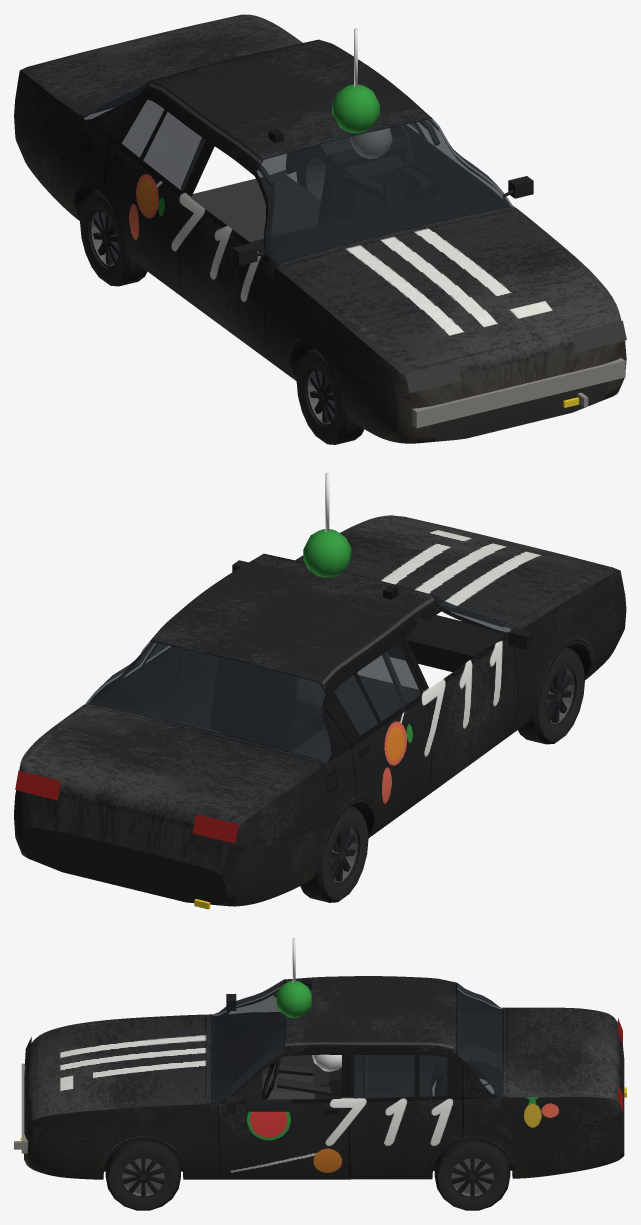
The picture shows the model from 3 angles, top to bottom: view 1: azimuth 30°, elevation 25°; view 2: azimuth 150°, elevation 25°; view 3: azimuth 270°, elevation 25°; orthographic projection. The views are drawn at different scales.
Parts seen in each view (by area): view 1: body, wheel_rr, wheel_fr, wheel_rl; view 2: body, wheel_rr, wheel_fr; view 3: body, wheel_fl, wheel_rl, wheel_rr.
Part boxes in pixels (x1,y1,x2,y2): body: [14, 14, 626, 443]; wheel_rr: [80, 189, 147, 286]; wheel_fr: [296, 348, 364, 444]; wheel_rl: [296, 145, 327, 199]; body: [14, 473, 626, 909]; wheel_rr: [300, 806, 368, 902]; wheel_fr: [518, 647, 584, 744]; body: [14, 938, 626, 1179]; wheel_fl: [105, 1140, 180, 1210]; wheel_rl: [434, 1141, 510, 1210]; wheel_rr: [435, 1061, 502, 1097].
Size of the model in its own units: 2.06 by 2.05 by 4.88.
2 materials, 1 textured.
